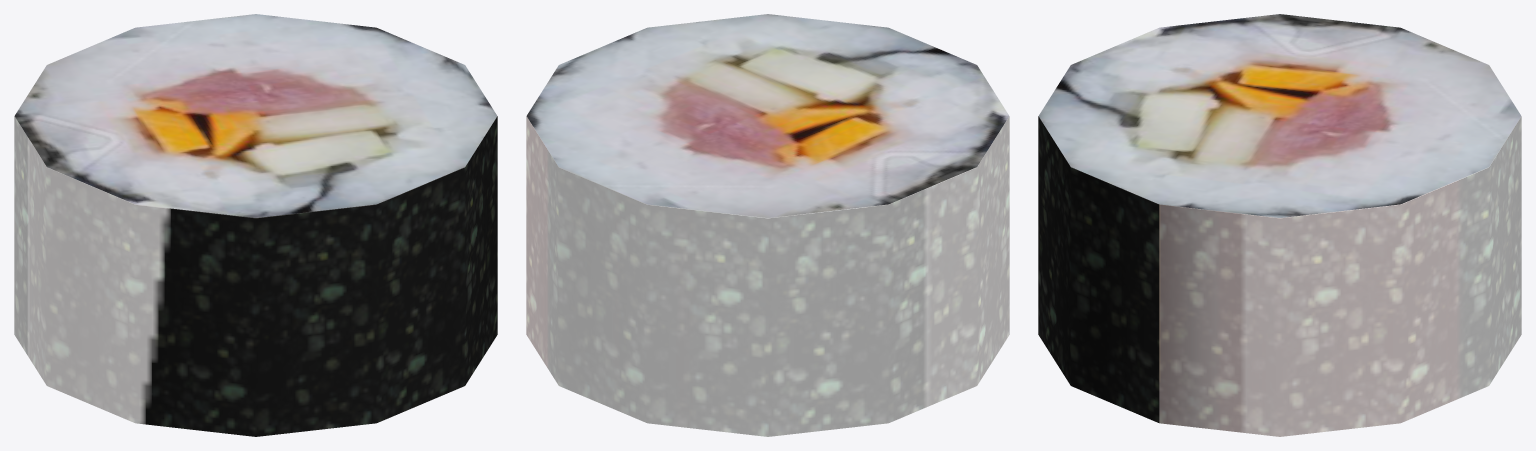
The model's file is SM_Maki_02.fbx.
3 views of the same model, side by side, from view 1: azimuth 30°, elevation 25°; view 2: azimuth 150°, elevation 25°; view 3: azimuth 270°, elevation 25° (orthographic).
Parts seen in each view (by area): view 1: SM_Maki_02_LOD0; view 2: SM_Maki_02_LOD0; view 3: SM_Maki_02_LOD0.
Part boxes in pixels (x1,y1,x2,y2): SM_Maki_02_LOD0: [14, 14, 497, 436]; SM_Maki_02_LOD0: [526, 14, 1009, 436]; SM_Maki_02_LOD0: [1038, 14, 1521, 436].
Size of the model in its own units: 5 by 5 by 2.5.
